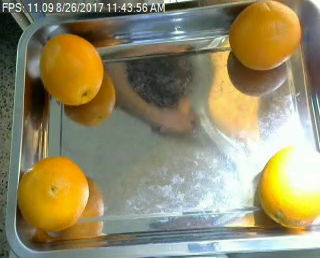Orange: (16, 155, 89, 232), (258, 143, 320, 226), (229, 1, 301, 71), (39, 34, 104, 107)
